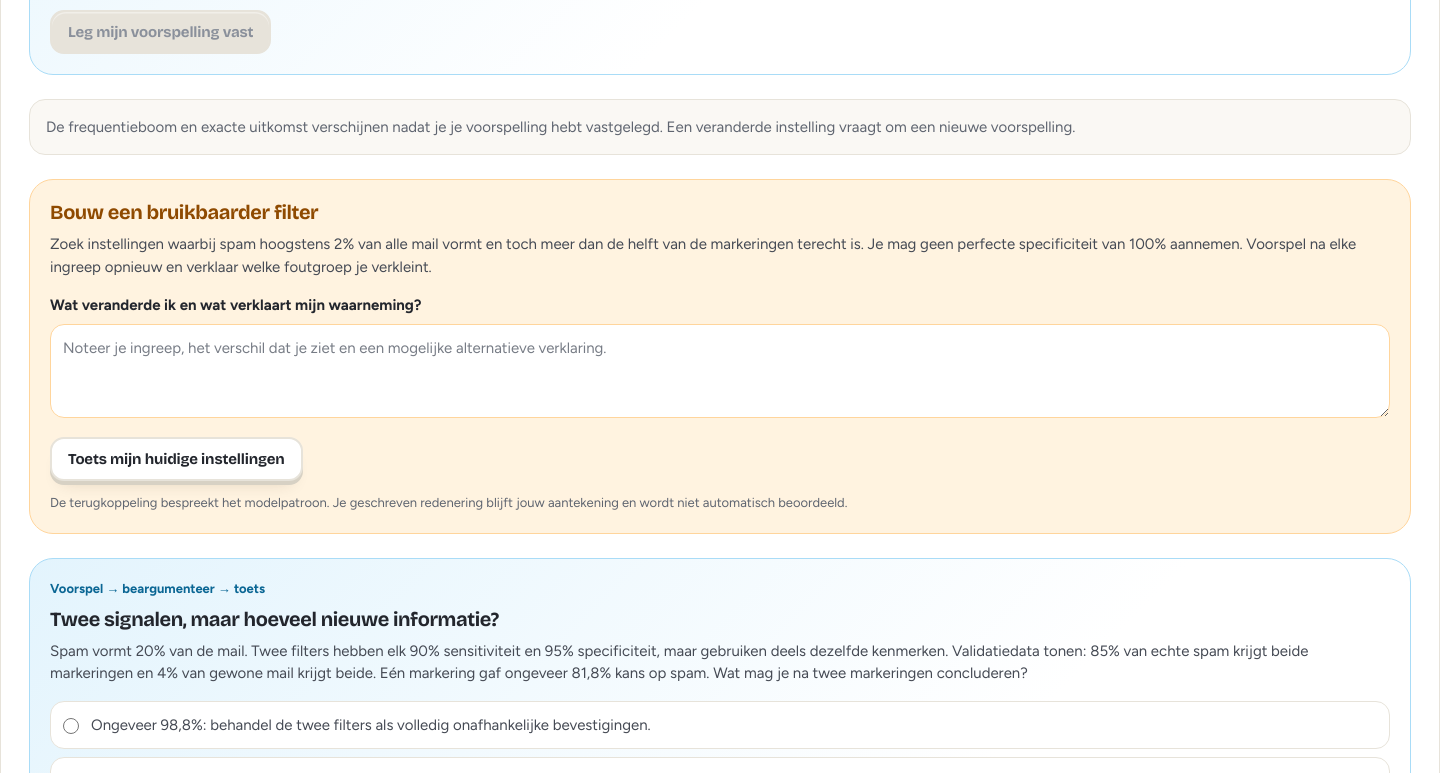
Test case: accessible argument laboratories without a canvas › relocks the Bayes result on retry while preserving a separate investigation note
This screenshot has width=1440, height=773.
(page scrolled)
Replace the text in the text box labelled "Wat veranderde ik en wat verklaart mijn waarneming?" with "Ik wil de fout-positieve groep verkleinen.": (720, 371) [50,324,1390,418]
(page scrolled)
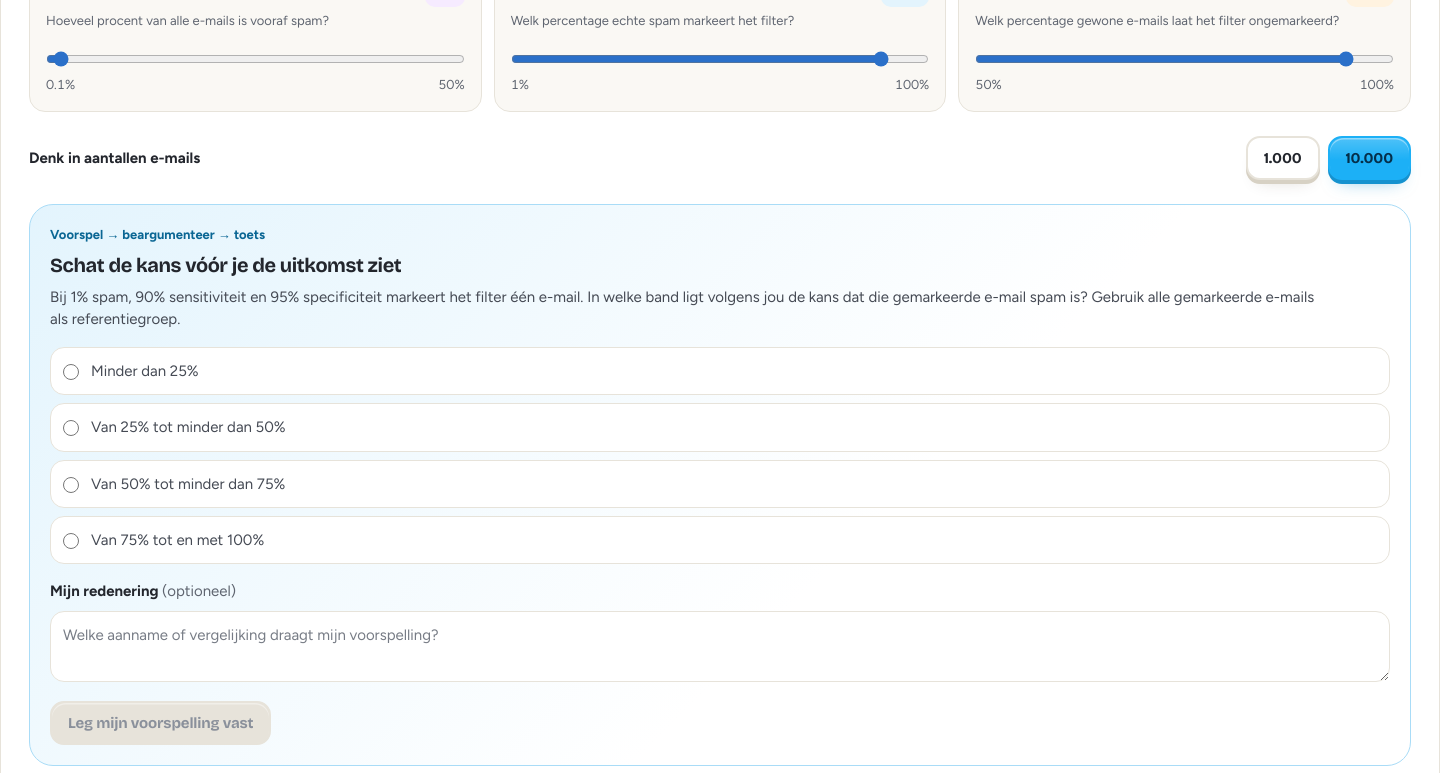
Click the radio button labelled "Minder dan 25%": (71, 372) [63,364,79,380]
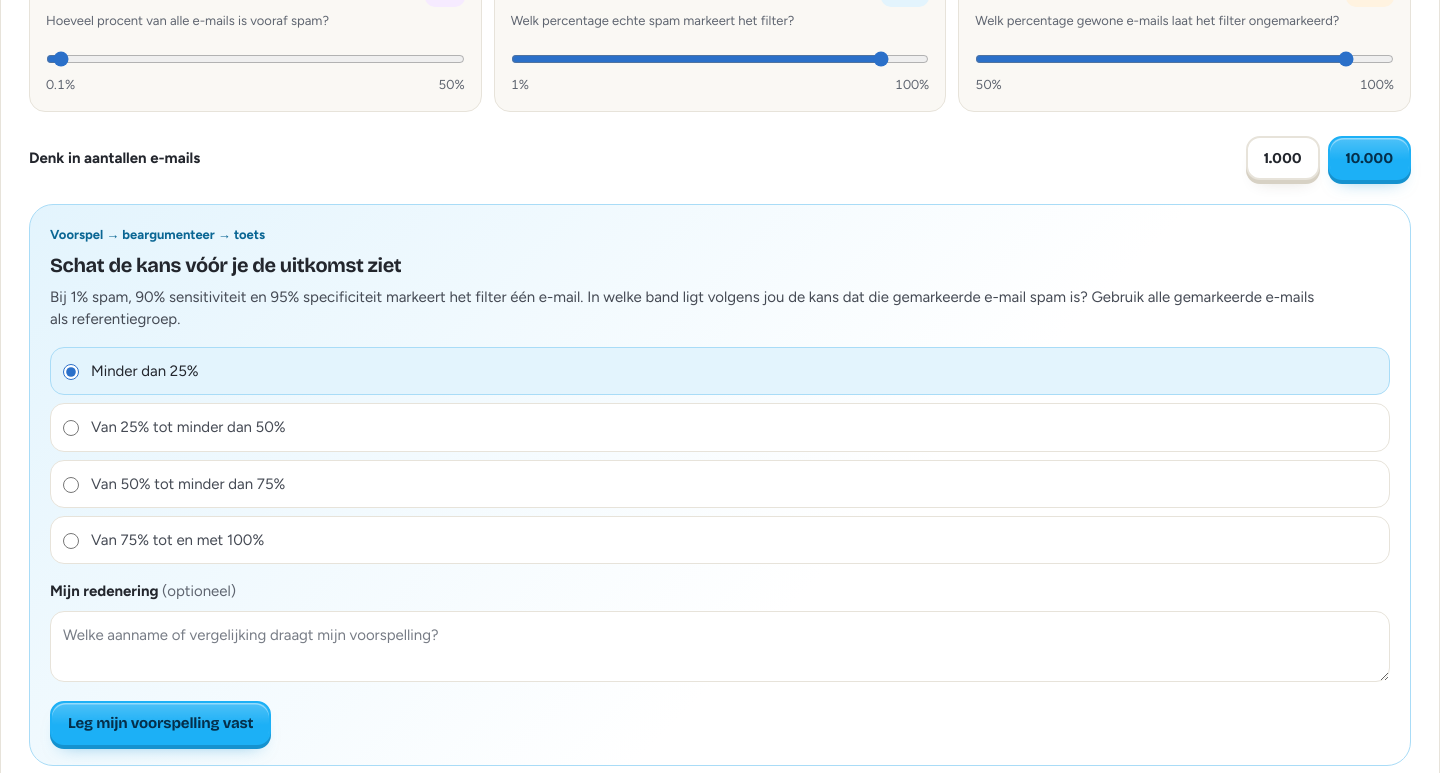
Click the button "Leg mijn voorspelling vast": (161, 723) [50,701,271,745]
(page scrolled)
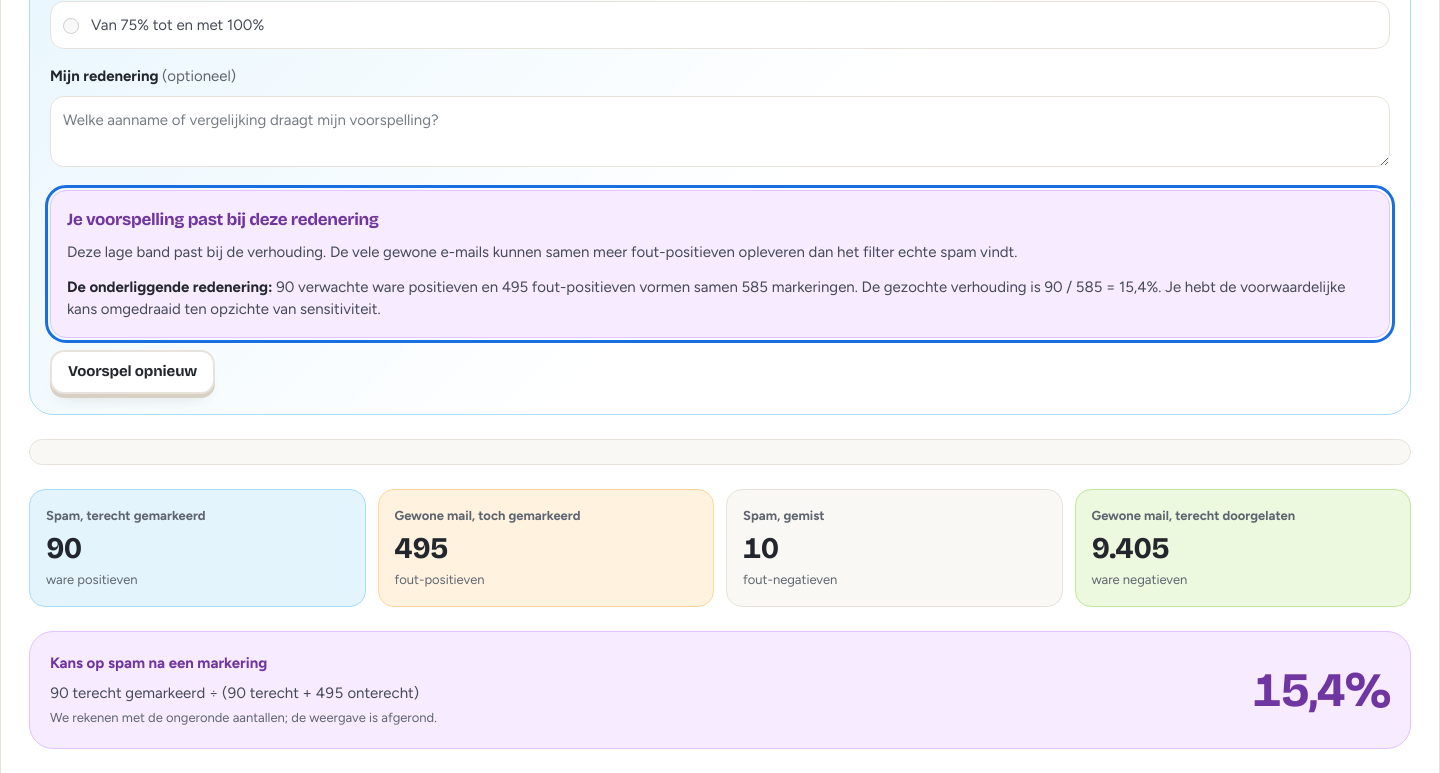
Check: the text "15,4%" is shown, box [1253,666,1390,714]
Click the button "Voorspel opnieuw": (133, 372) [50,350,215,394]
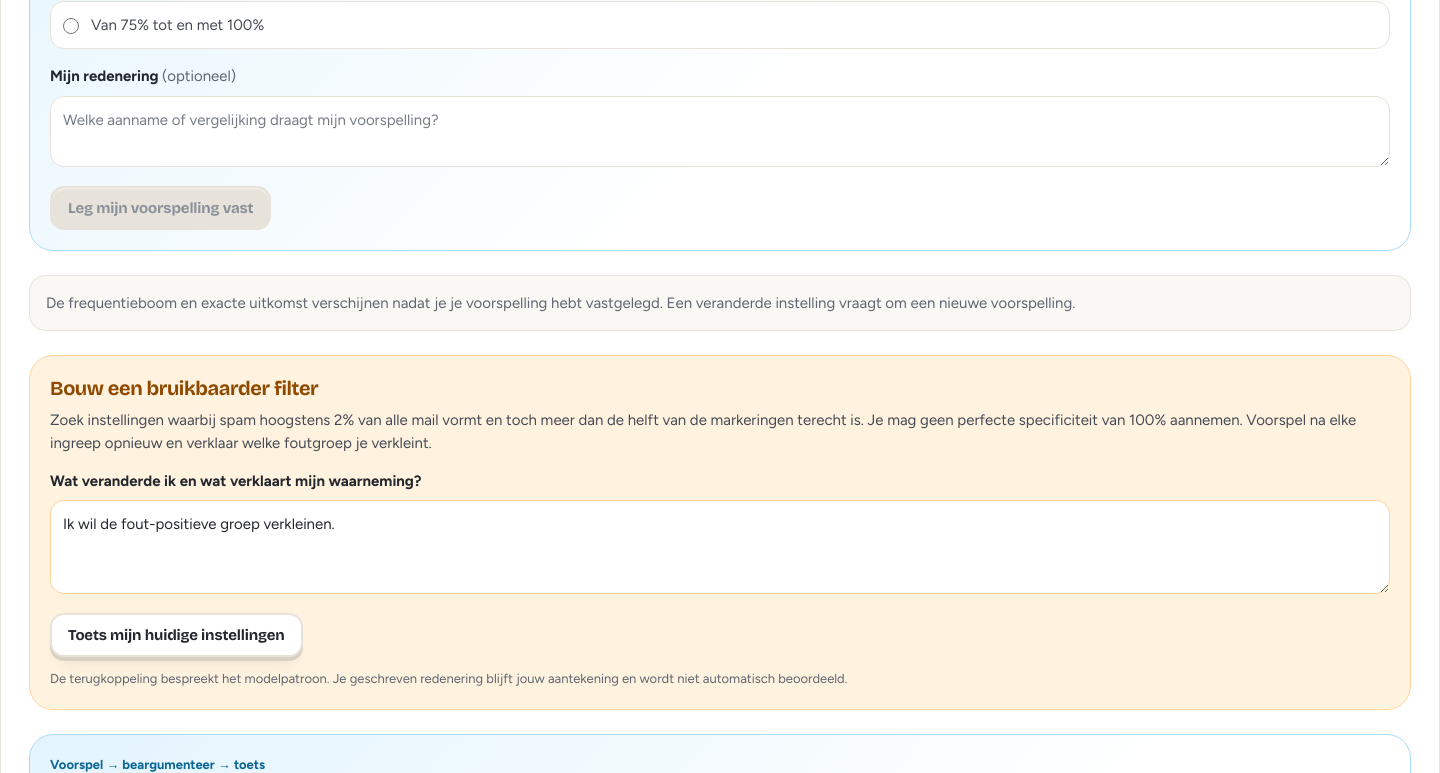
Check: the text "15,4%" is gone
